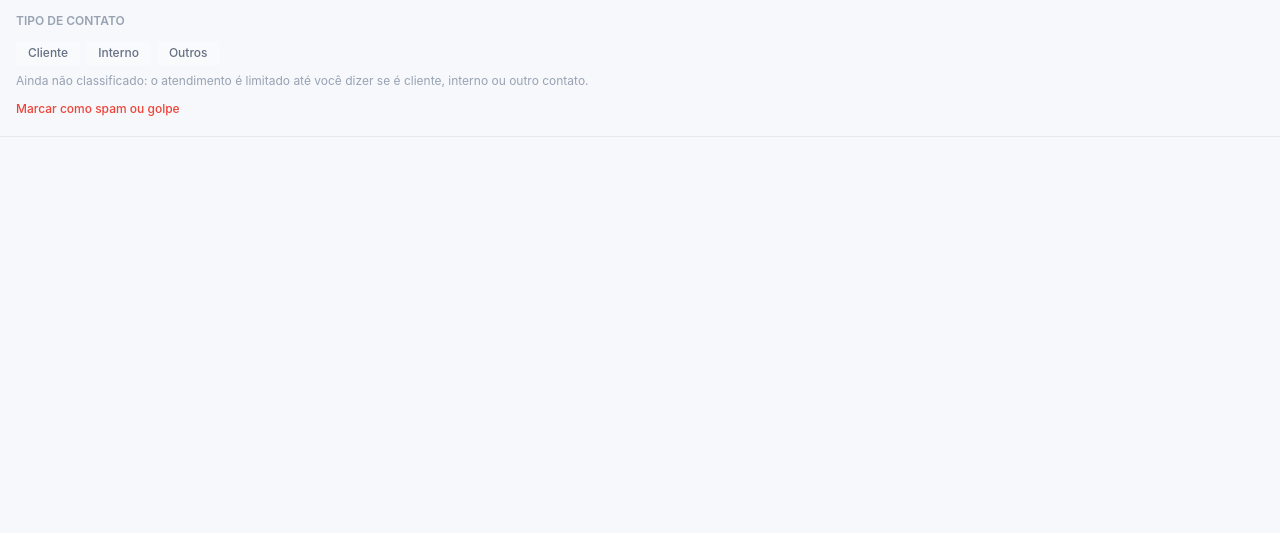
Test: ContactKindControl — becoming a customer needs a company › Cliente opens the picker and sends nothing until a company is confirmed
Click the button "Cliente".
click(48, 53)  # box [16, 41, 80, 65]
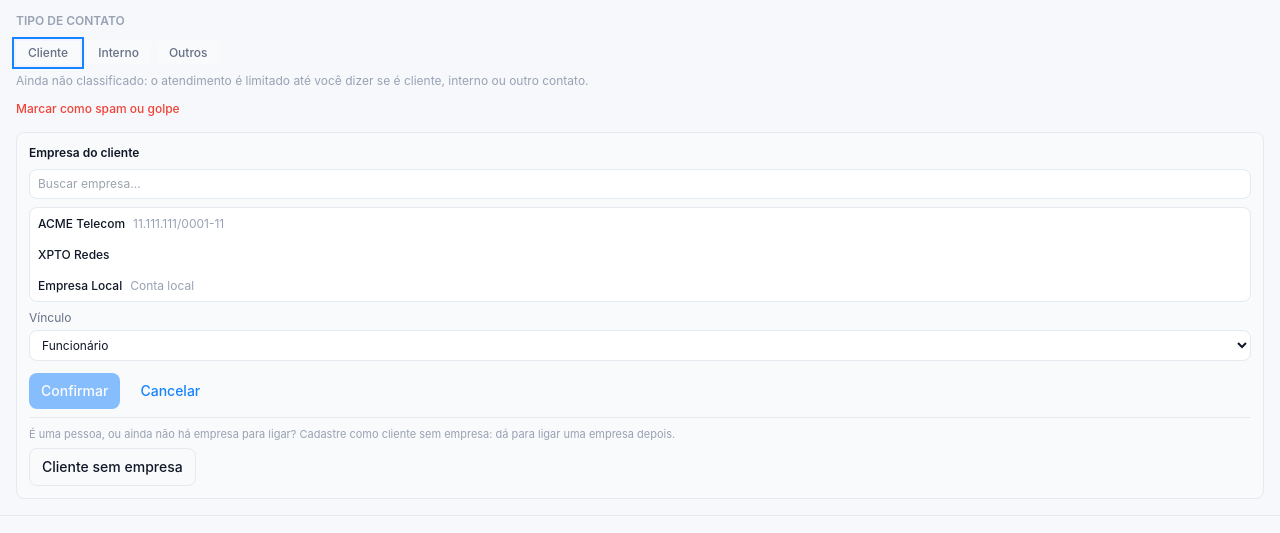
Now the element "Empresa do cliente" is shown
Now the button "Confirmar" is disabled, box [29, 373, 120, 409]
